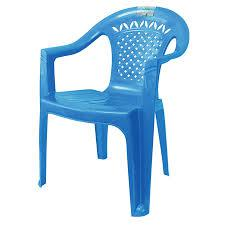chair: (26, 8, 201, 208)
